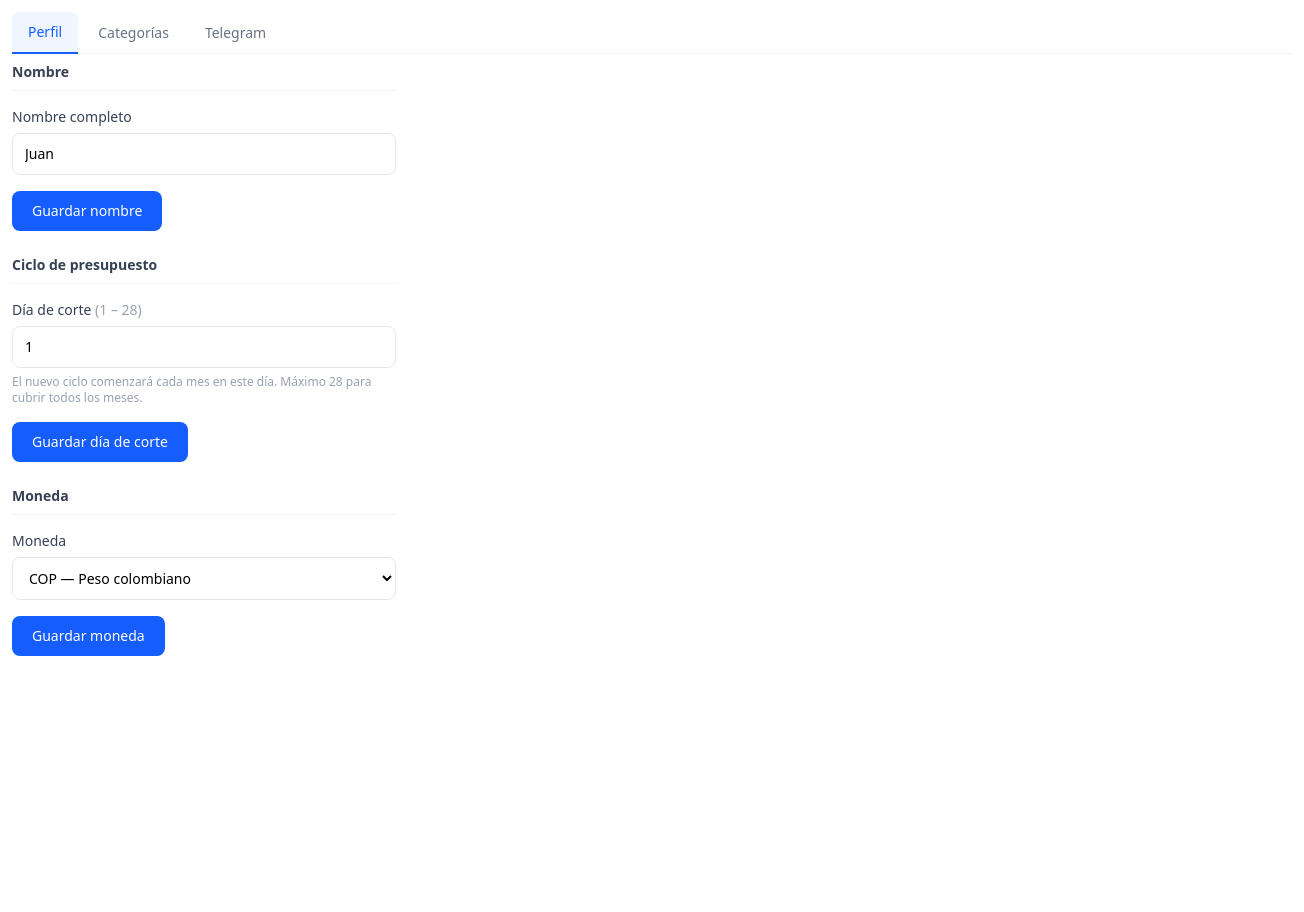
Test: ConfiguracionClient — seguridad › muestra error si eliminarCategoria falla
Click the button "Categorías" at (134, 32), box [82, 12, 185, 53]
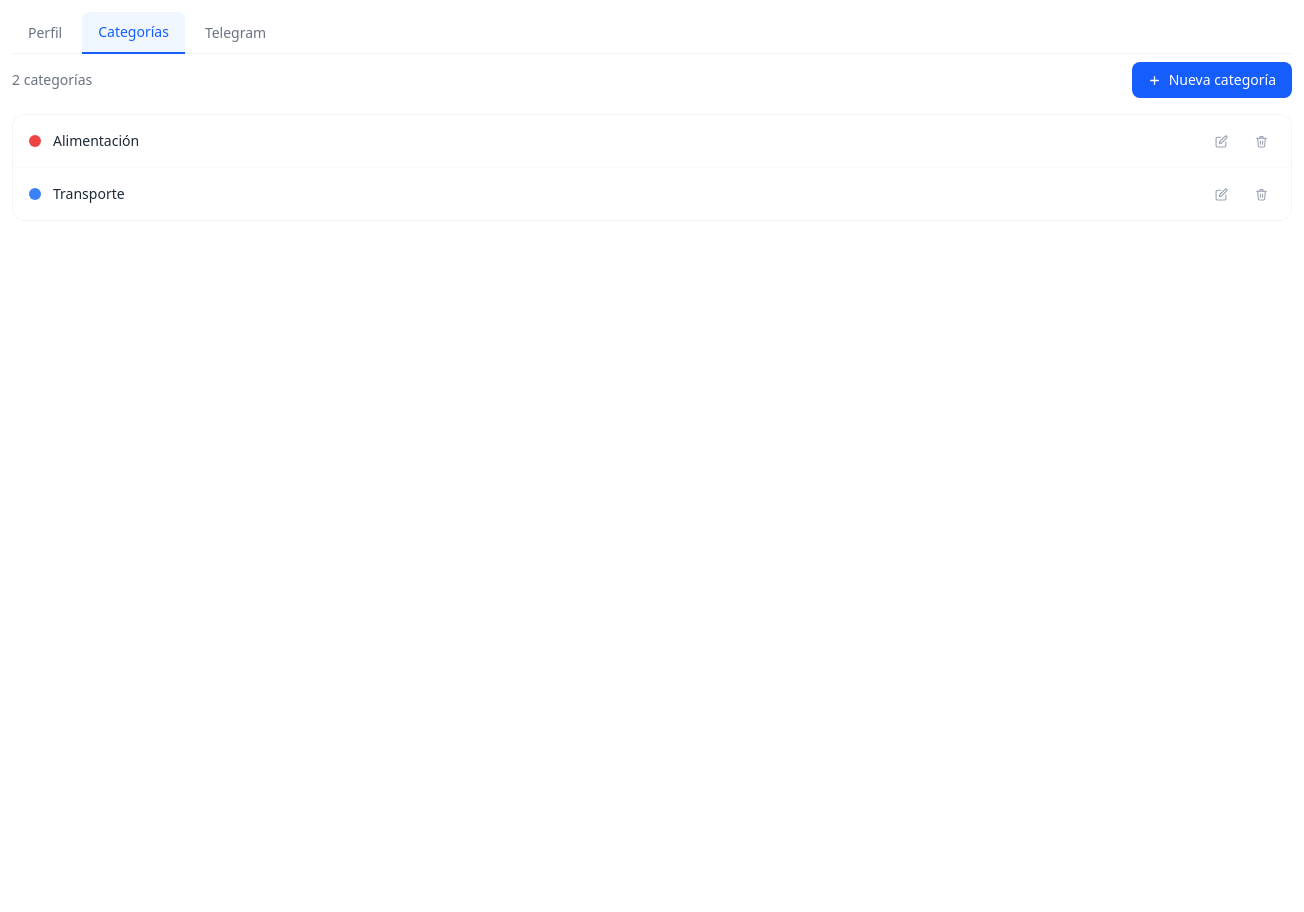
Click the button named "eliminar" at (1261, 141), box [1247, 127, 1275, 155]
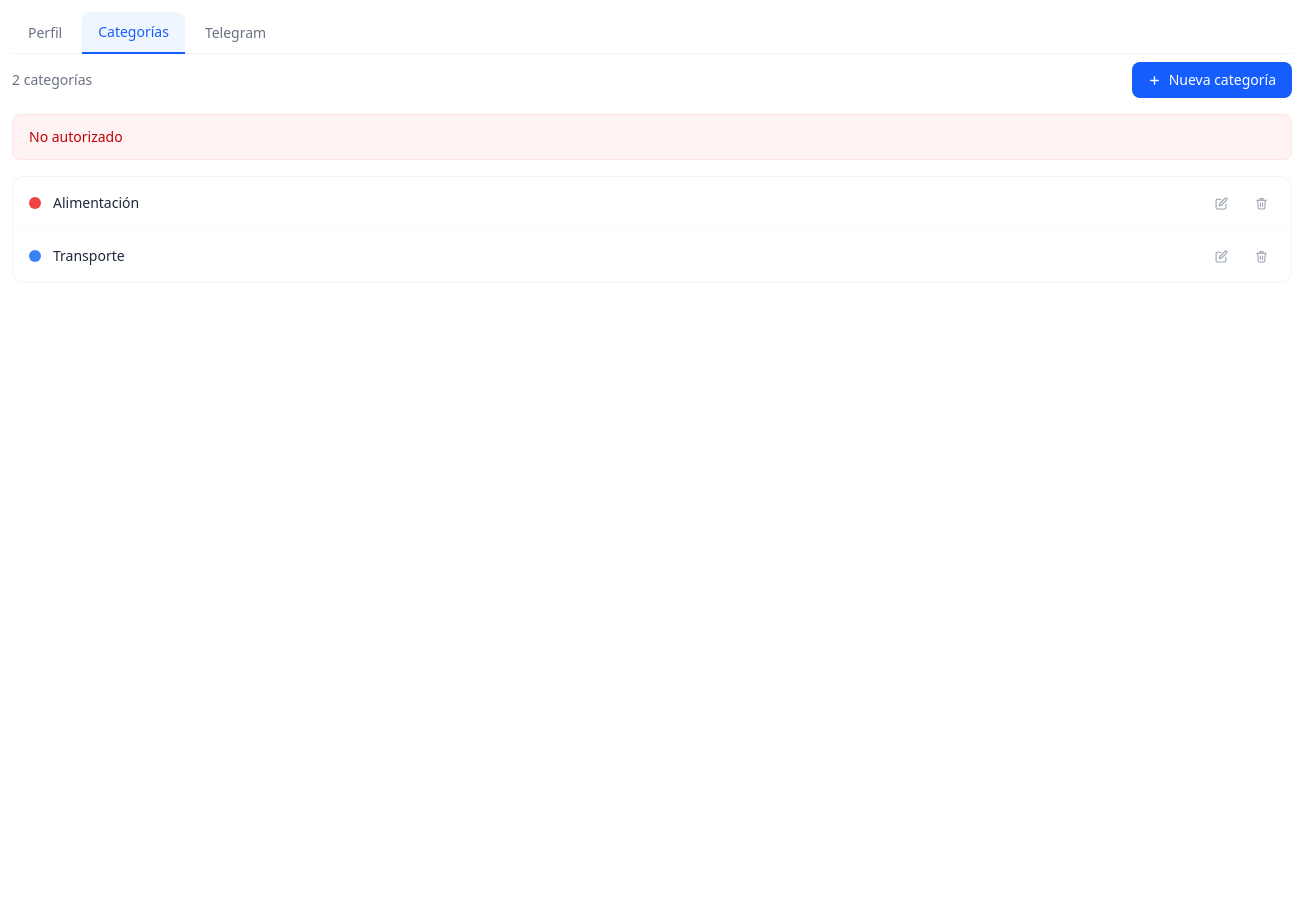
Result: the text "No autorizado" is shown at [12, 114, 1292, 160]
